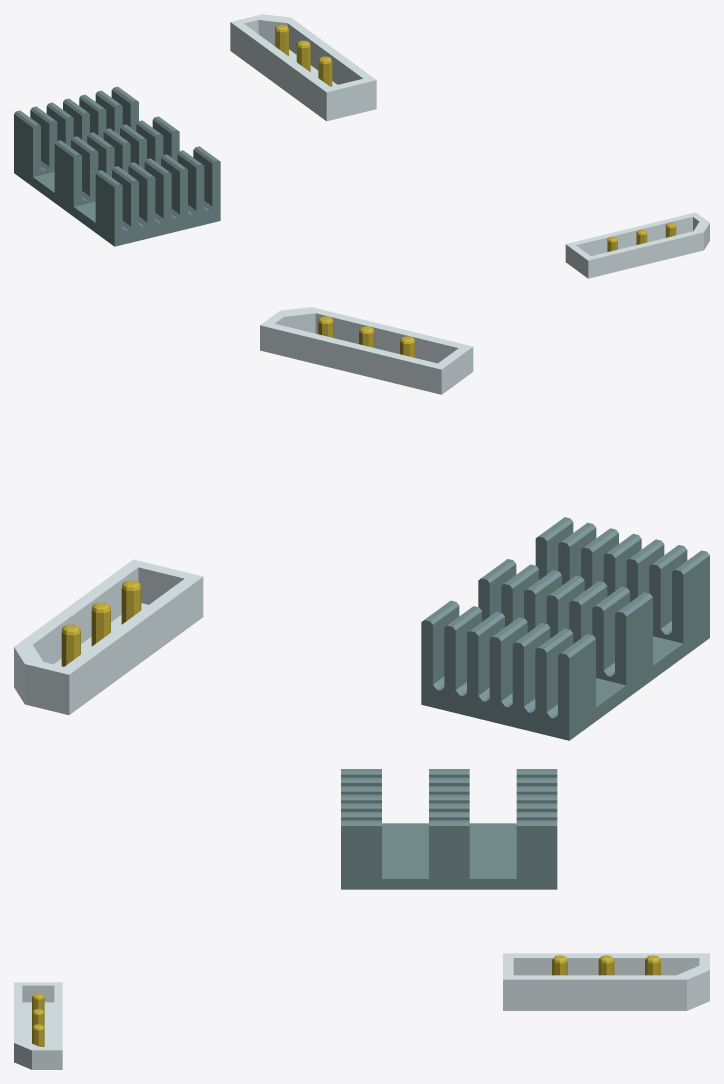
The model's file is walls.obj.
The picture shows the model from 3 angles, top to bottom: view 1: azimuth 30°, elevation 25°; view 2: azimuth 150°, elevation 25°; view 3: azimuth 270°, elevation 25°; orthographic projection. The views are drawn at different scales.
Parts seen in each view (by area): view 1: heatsinks, plug, plug.001; view 2: heatsinks, plug, plug.001; view 3: heatsinks, plug, plug.001.
Boxes of the visible parts, box(x1,y1,x2,y2) form: heatsinks: box(14, 86, 220, 246); plug: box(230, 14, 376, 121); plug.001: box(565, 212, 709, 278); heatsinks: box(421, 517, 709, 740); plug: box(14, 559, 203, 714); plug.001: box(260, 307, 473, 394); heatsinks: box(341, 769, 557, 889); plug: box(503, 953, 709, 1010); plug.001: box(14, 982, 62, 1069).
Size of the model in its own units: 288 by 37.38 by 358.
Materials: 2 (2 with a texture image).
